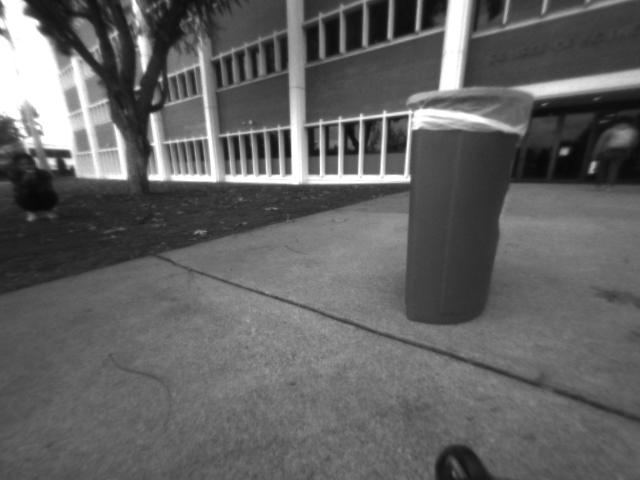trashcan_open: (400, 85, 542, 332)
